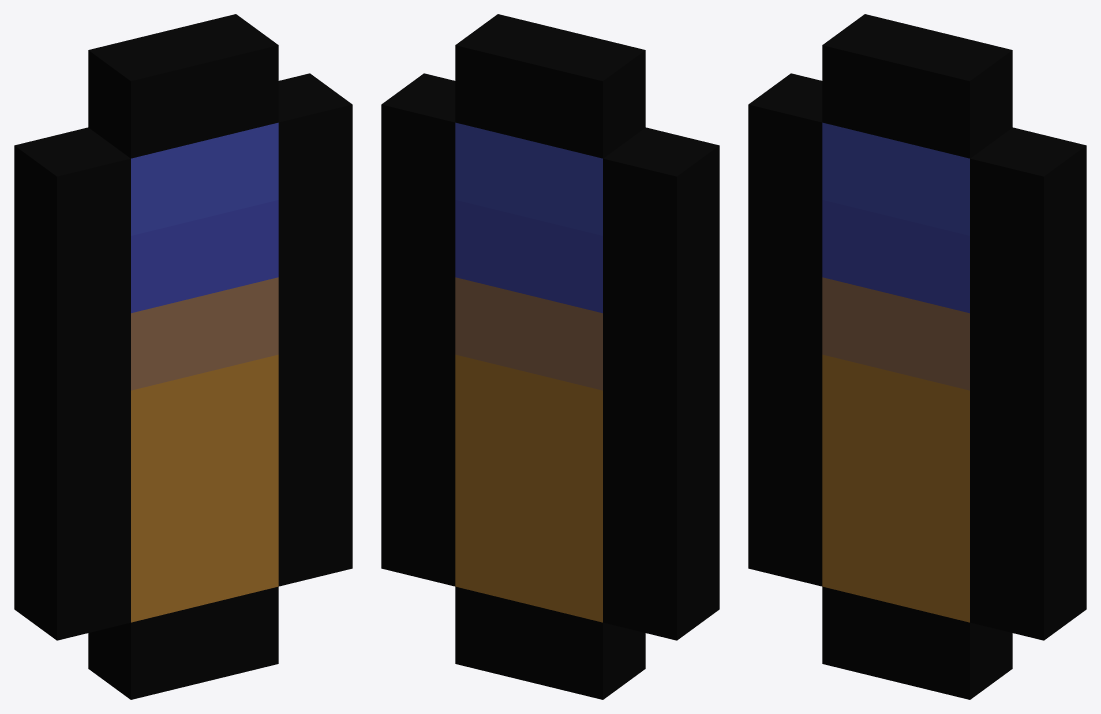
Rendered from Blue Torch.glb.
3 renders of one model, left to right at view 1: azimuth 30°, elevation 25°; view 2: azimuth 150°, elevation 25°; view 3: azimuth 330°, elevation 25°, orthographic.
Parts seen in each view (by area): view 1: generated(Clone); view 2: generated(Clone); view 3: generated(Clone).
Boxes of the visible parts, x1,y1,x2,y2 form: generated(Clone): (14,14,352,699); generated(Clone): (381,14,719,699); generated(Clone): (748,14,1086,699).
Bounding box in the file's own units: 4 × 8 × 1.
1 material, 1 textured.
